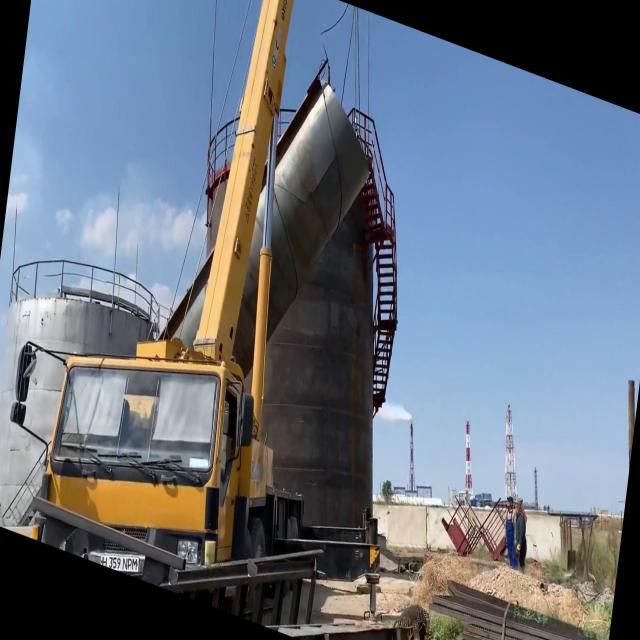crane: (0, 0, 450, 640)
